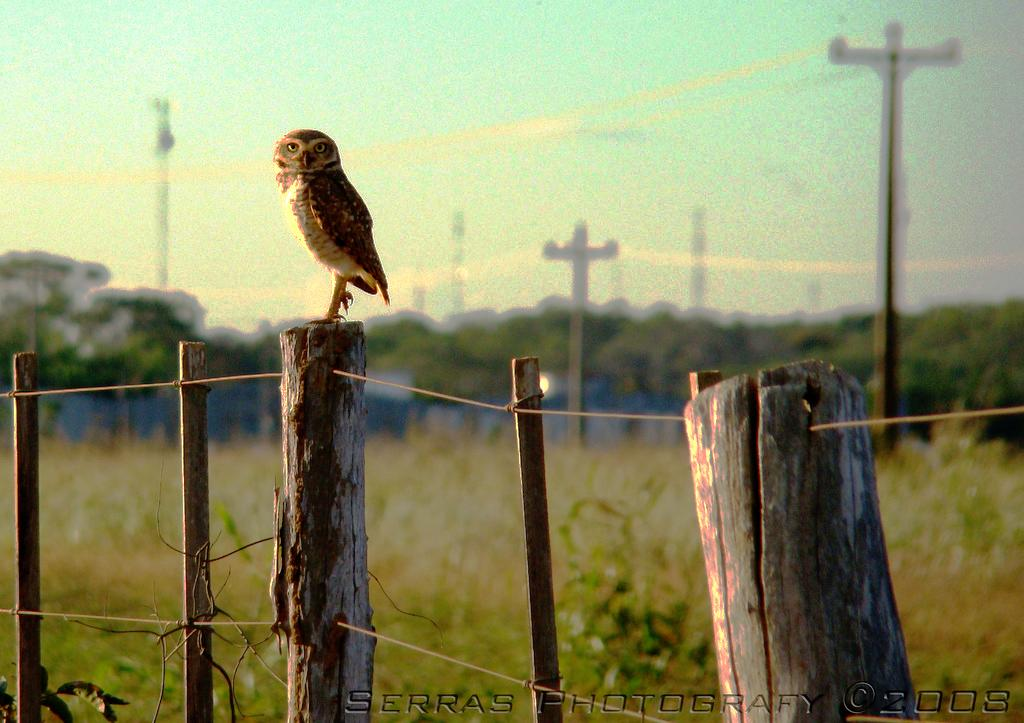Owl: (273, 128, 387, 321)
